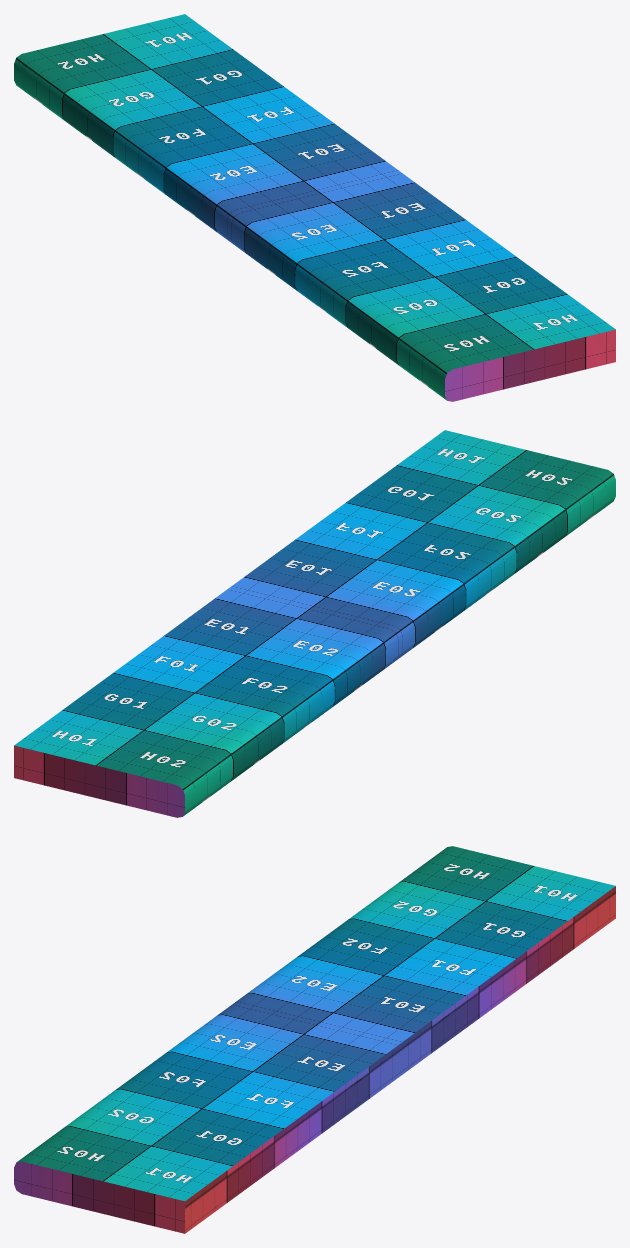
The model's file is ToiletBtmPlaque_low.fbx.
The picture shows the model from 3 angles, top to bottom: view 1: azimuth 30°, elevation 25°; view 2: azimuth 150°, elevation 25°; view 3: azimuth 330°, elevation 25°; orthographic projection.
Visible parts, largest first — view 1: ToiletBtmPlaque_low; view 2: ToiletBtmPlaque_low; view 3: ToiletBtmPlaque_low.
Part boxes in pixels (x1,y1,x2,y2): ToiletBtmPlaque_low: [14, 14, 615, 401]; ToiletBtmPlaque_low: [14, 430, 615, 817]; ToiletBtmPlaque_low: [14, 846, 615, 1233].
Size of the model in its own units: 55 by 10 by 240.
